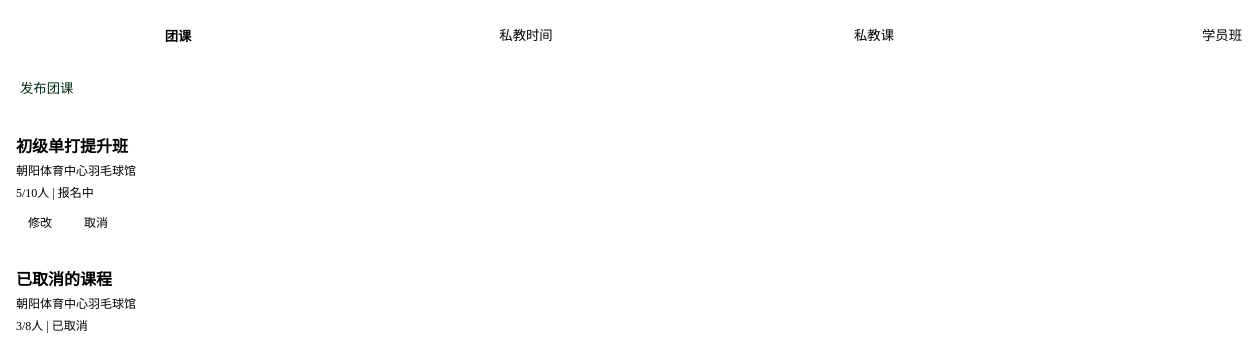
MyCourseManagementPage › should render private lesson list when switching to private lessons tab
The width and height of the screenshot is (1259, 350).
# Click private lessons tab
Click the button "私教课" at (874, 36), box 700,17 -> 1048,54
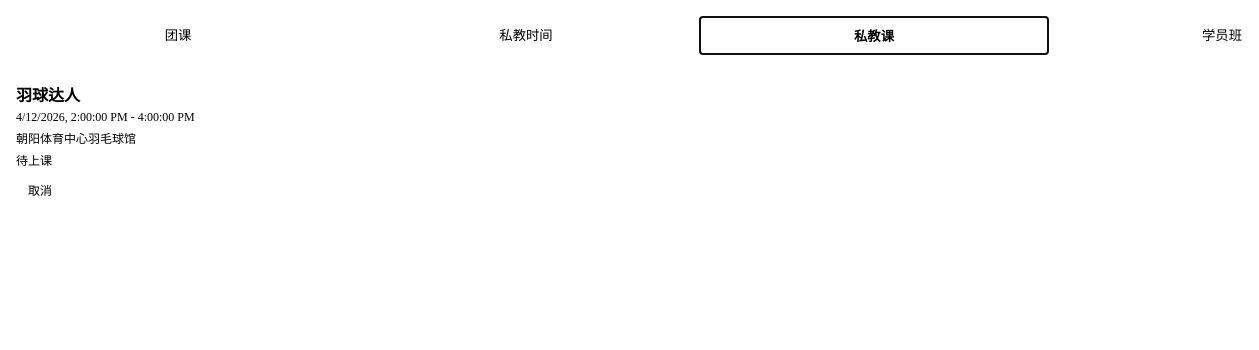
Check: the text "羽球达人" is shown, box 16,87 -> 80,104
